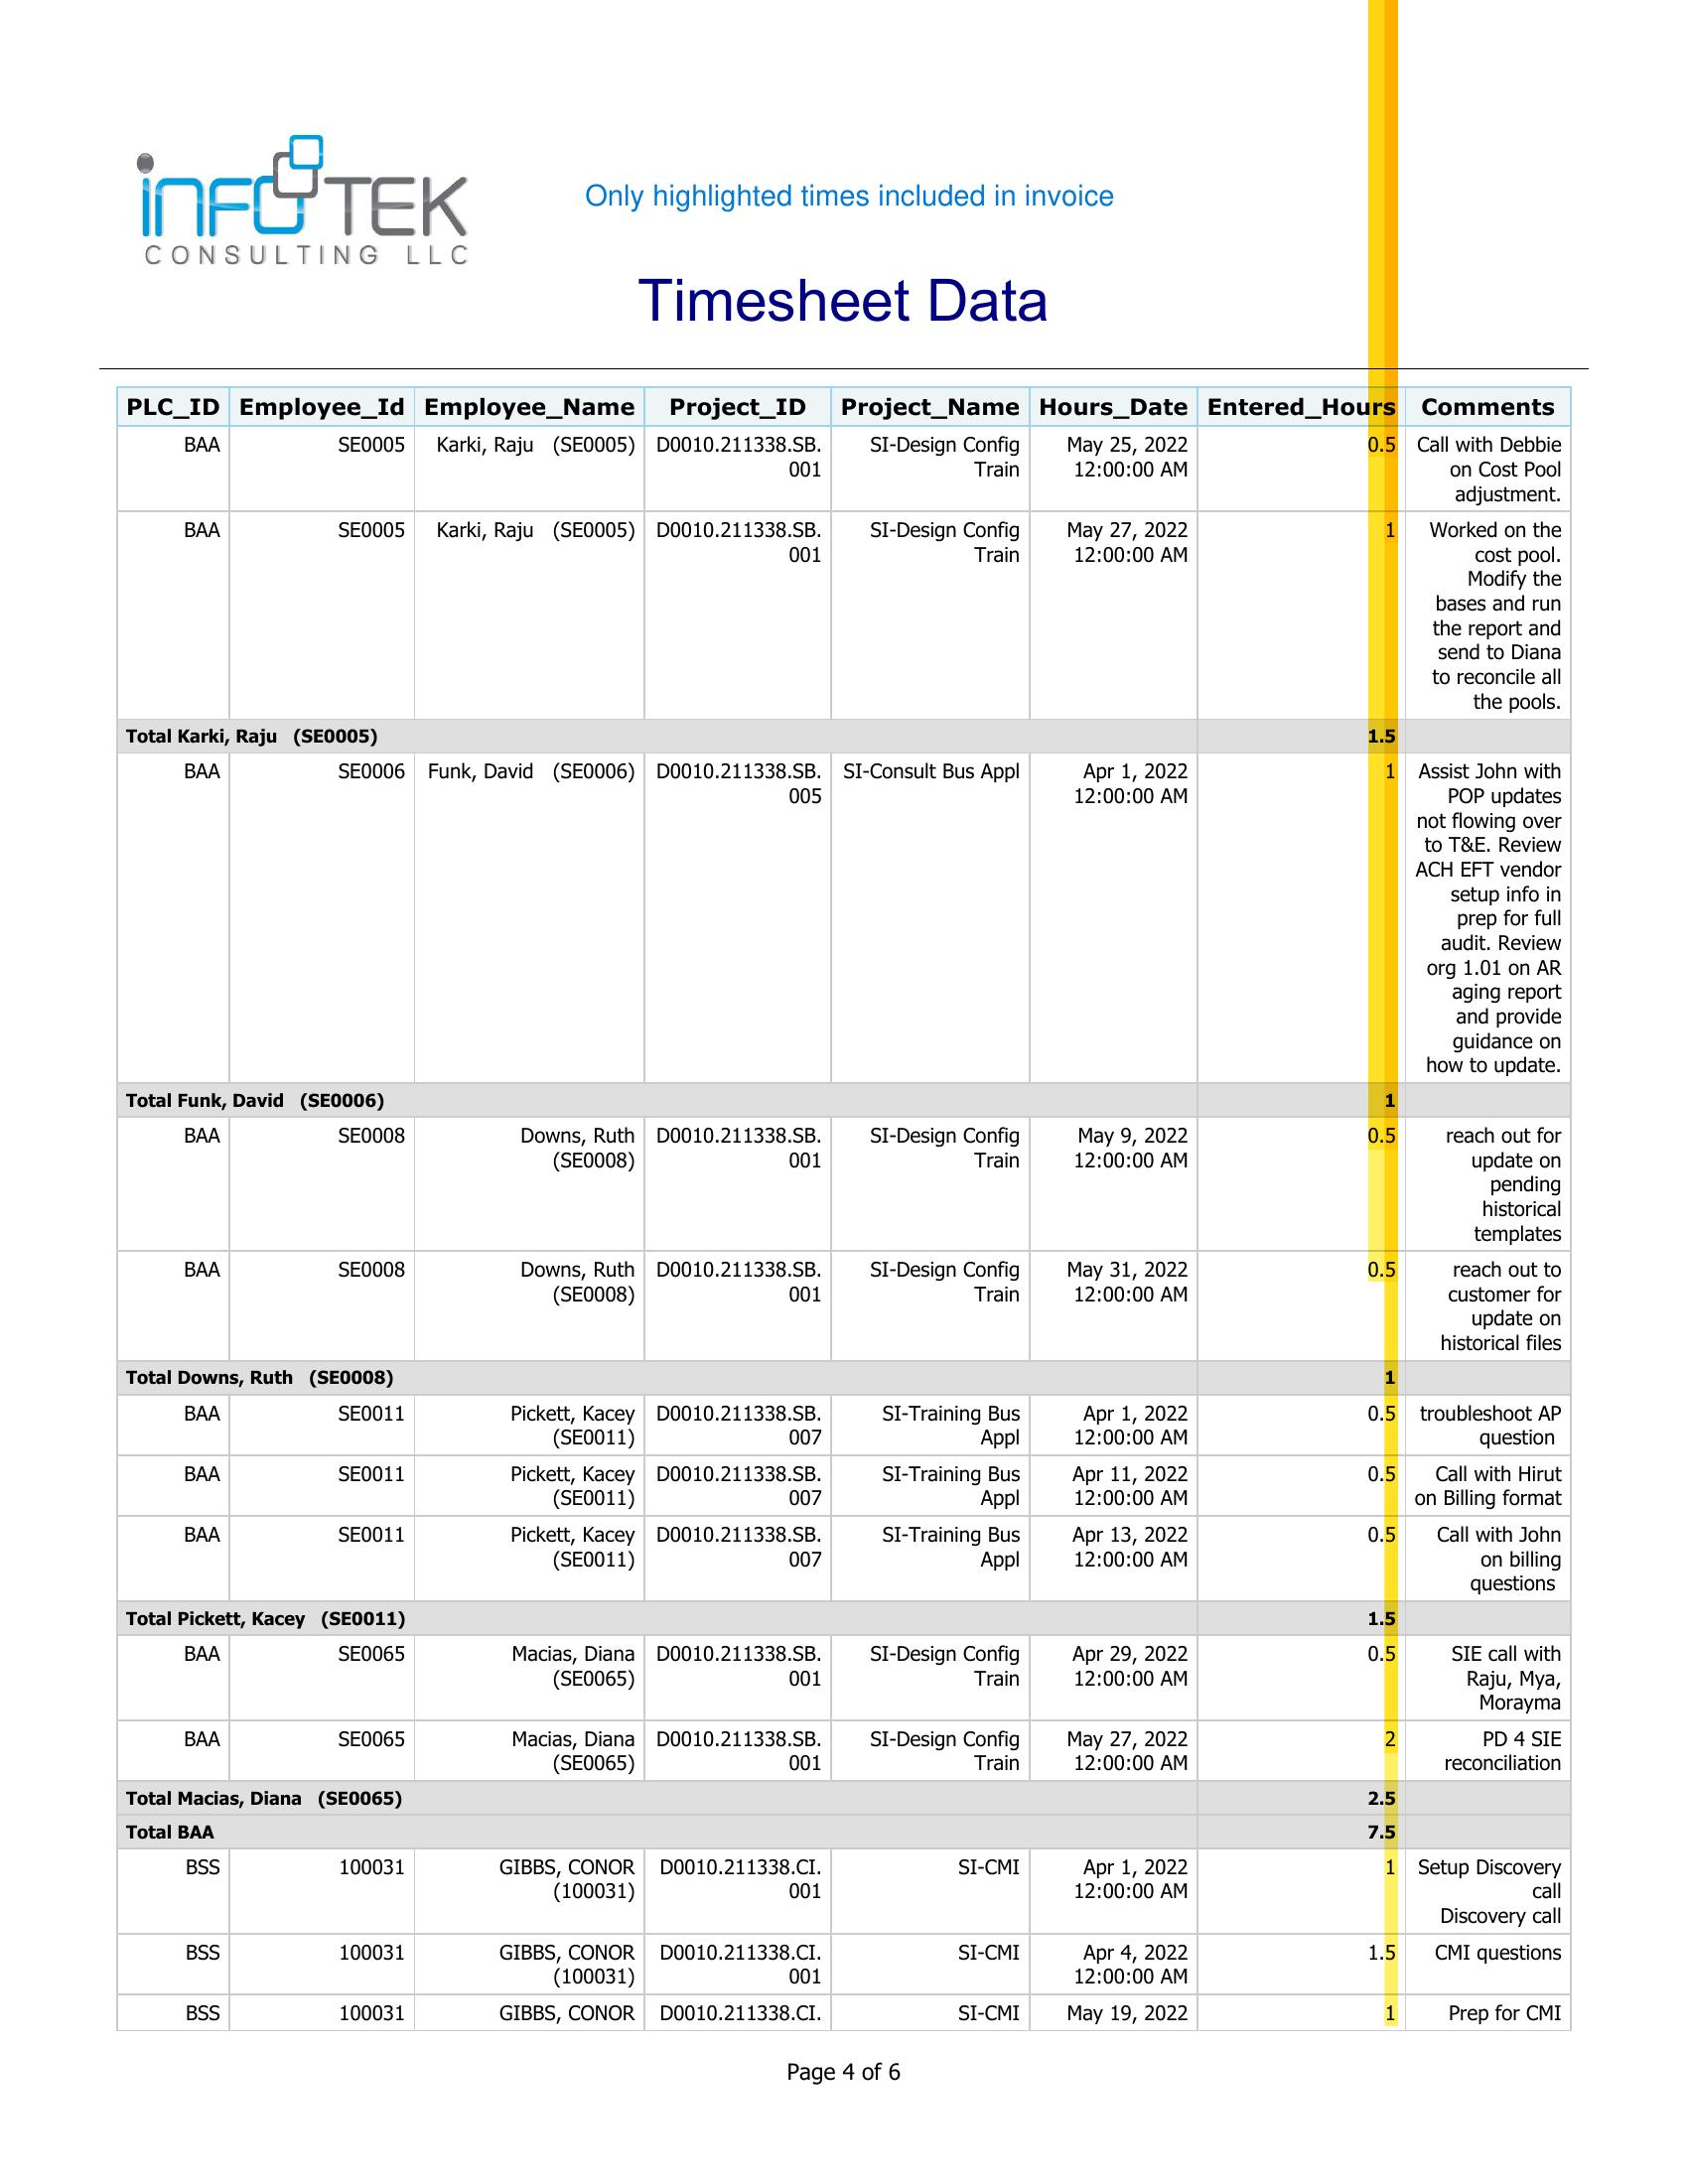table: (105, 362, 1578, 2049)
